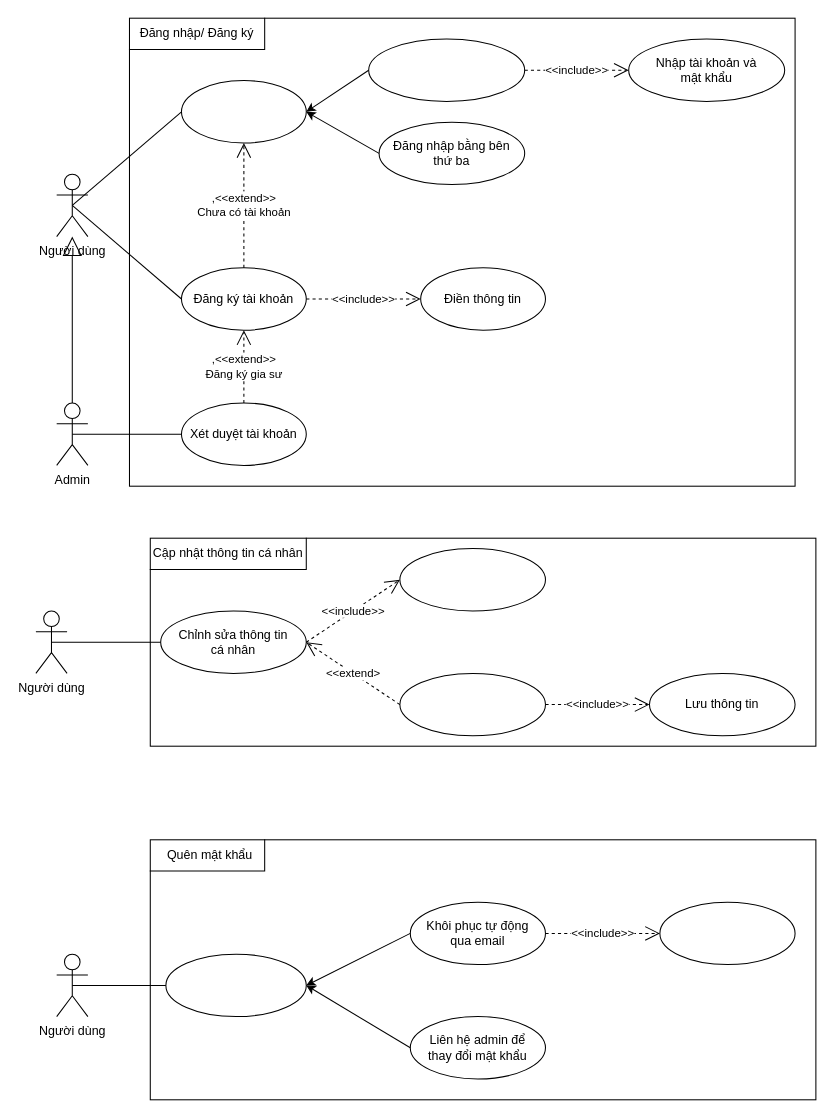
Image size: 834x1118. Some labels were removed from this diagram. Here are the shapes that lost their labels. From the top down, the centre of each, then its label:
the point at 446,69: Đăng nhập bằng tài khoản & mật khẩu
the point at 243,111: Đăng nhập
the point at 472,579: Xem thông tin cá nhân
the point at 472,704: Cập nhật các thông tin cần chỉnh sửa
the point at 727,933: Nhận OTP khôi phục qua email
the point at 235,985: Khôi phục mật khẩu
